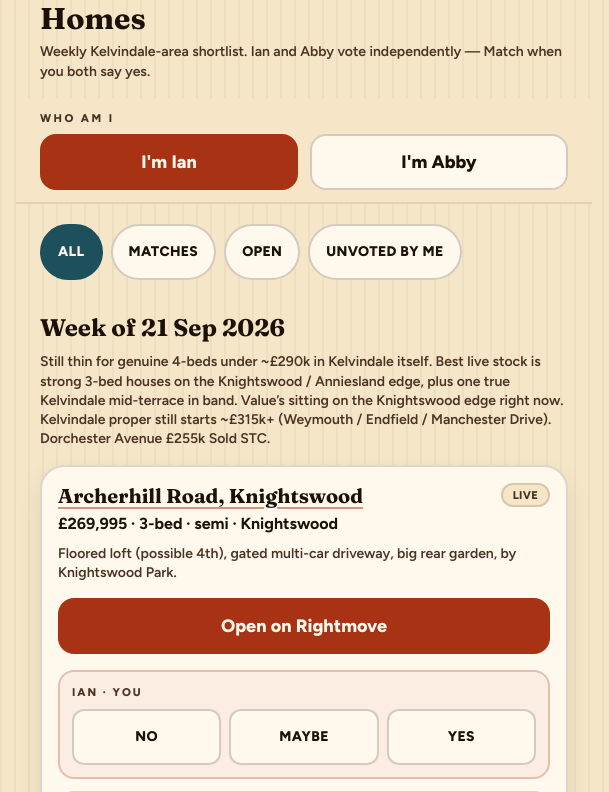
Test: HomesScoper › stores who-am-I and filters unvoted by that person
Expected: the link "Archerhill Road, Knightswood" is shown, [58,482,363,508]
Step 1. Click the button "I'm Abby" → (439, 162), box [310,134,568,190]
(page scrolled)
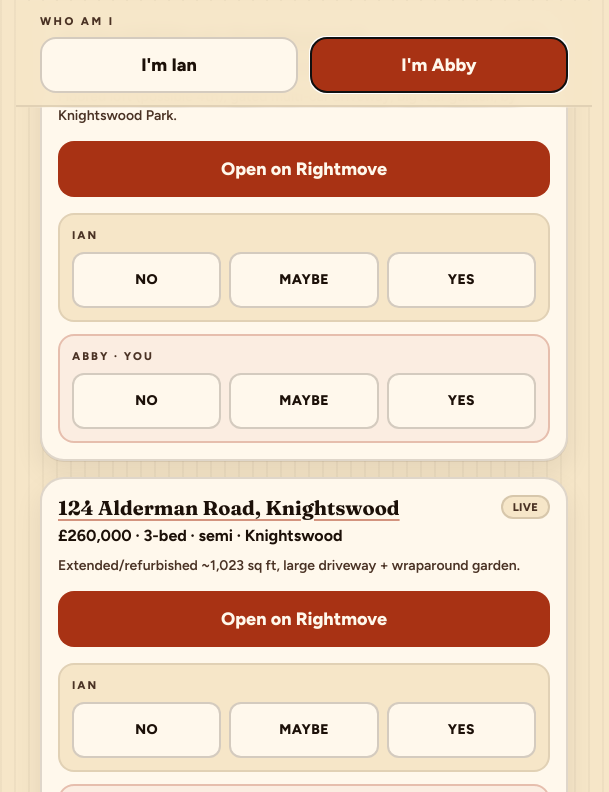
Step 2. Click the button with aria-label "abby: no" → (147, 401), box [72,373,221,429]
(page scrolled)
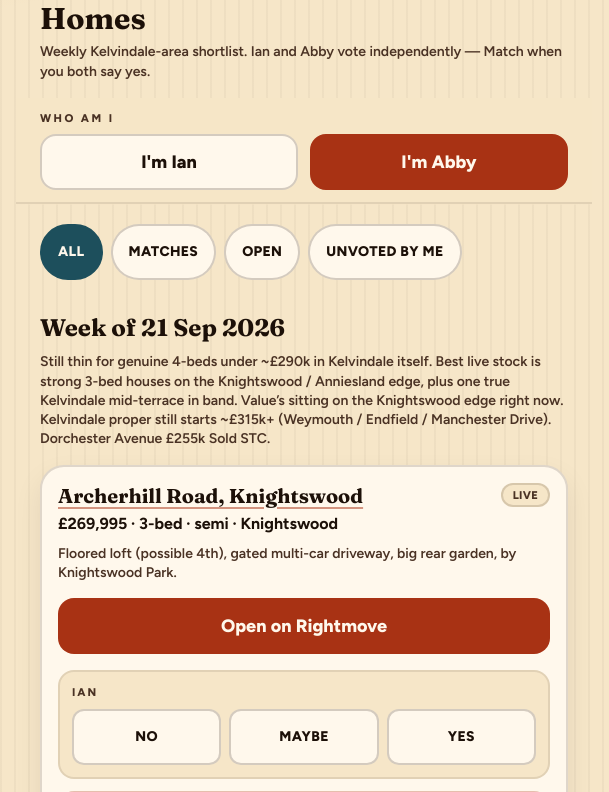
Step 3. Click the button "Unvoted by me" → (385, 252), box [308,224,462,280]
(page scrolled)
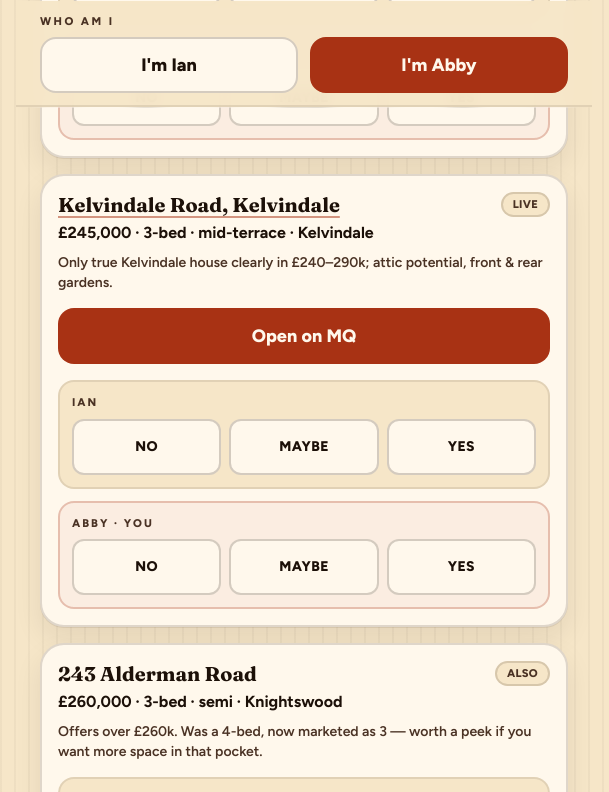
Expected: the element "Kelvindale Road" is shown, [40,174,568,628]
Now the link "Archerhill Road" is gone
